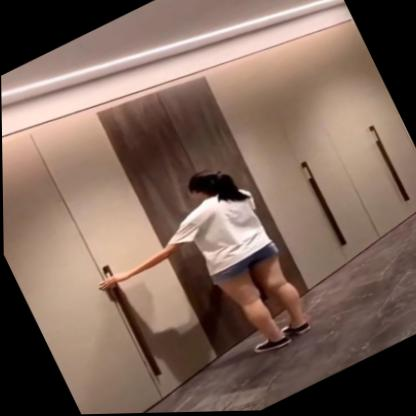Closet: (2, 20, 416, 415)
